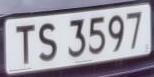3: (66, 11, 88, 64)
5: (86, 8, 108, 61)
7: (125, 7, 145, 56)
9: (106, 7, 128, 59)
S: (36, 15, 61, 68)
T: (13, 17, 39, 69)
